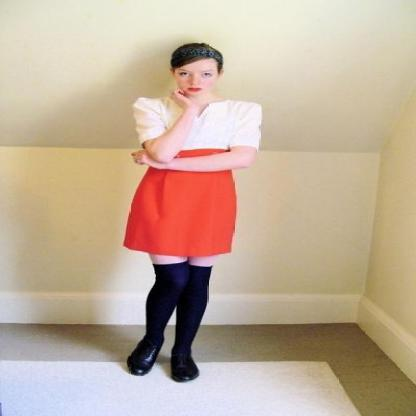shirt: (133, 87, 261, 148)
shoe: (127, 341, 199, 381)
skirt: (124, 149, 236, 255)
